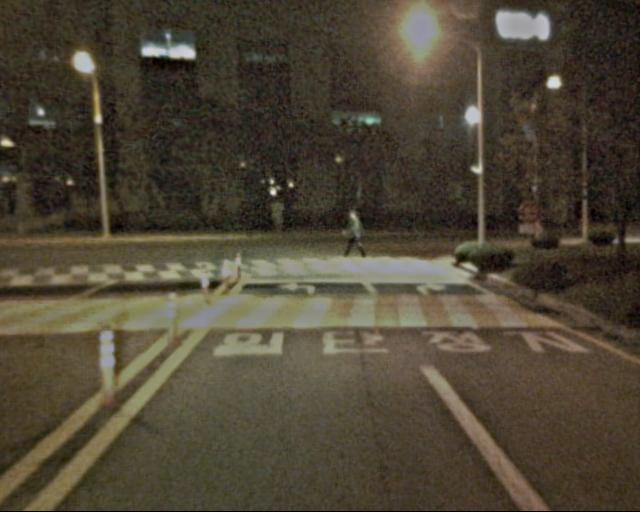person: (343, 210, 368, 271)
